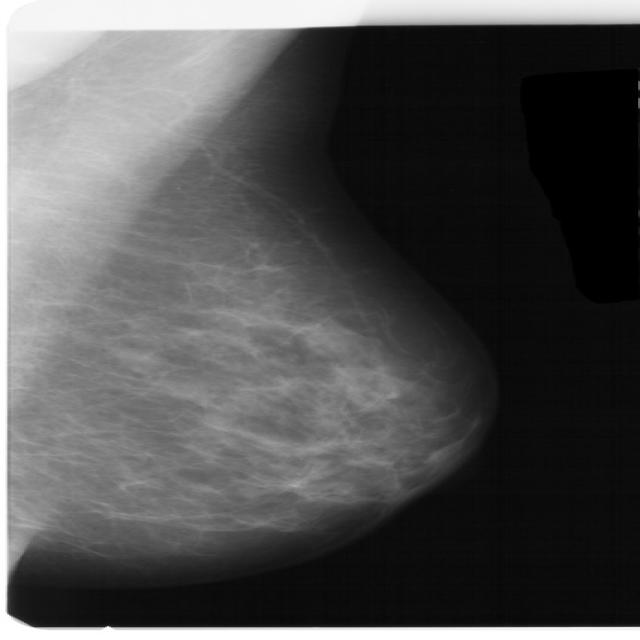tumour: (109, 346, 166, 369)
